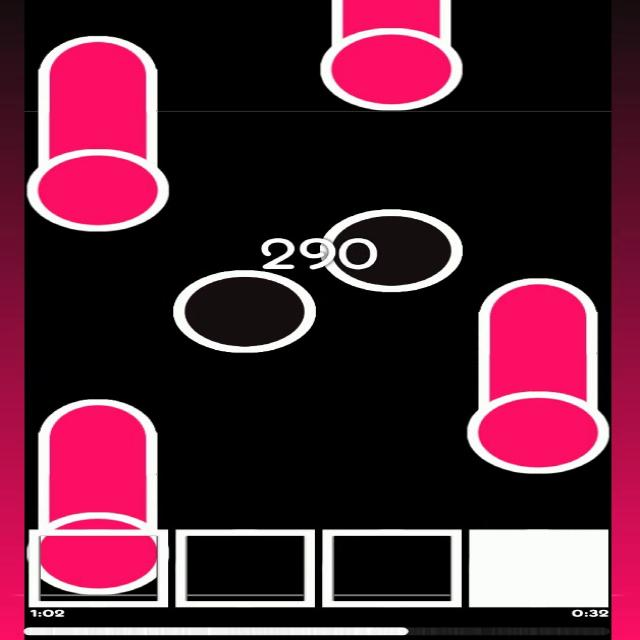end_hold: (33, 27, 163, 80), (36, 390, 163, 443), (476, 270, 599, 323)
note: (173, 265, 316, 354), (324, 208, 466, 290)
start_hold: (20, 134, 174, 232), (316, 18, 464, 114), (26, 499, 170, 597), (464, 384, 609, 476)
